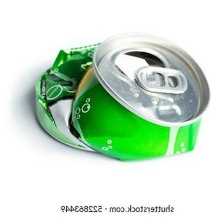can: (24, 27, 214, 167)
